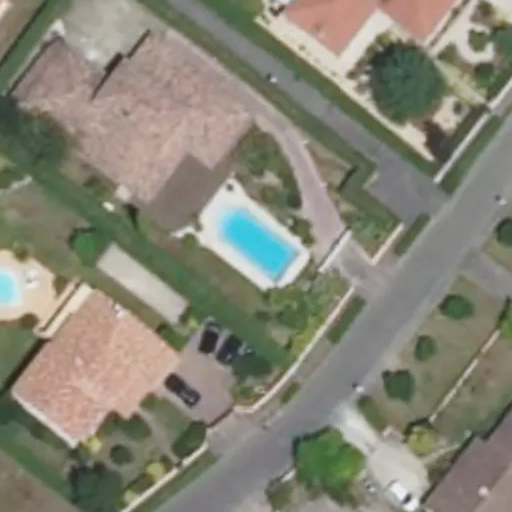pool: (206, 226, 297, 249)
